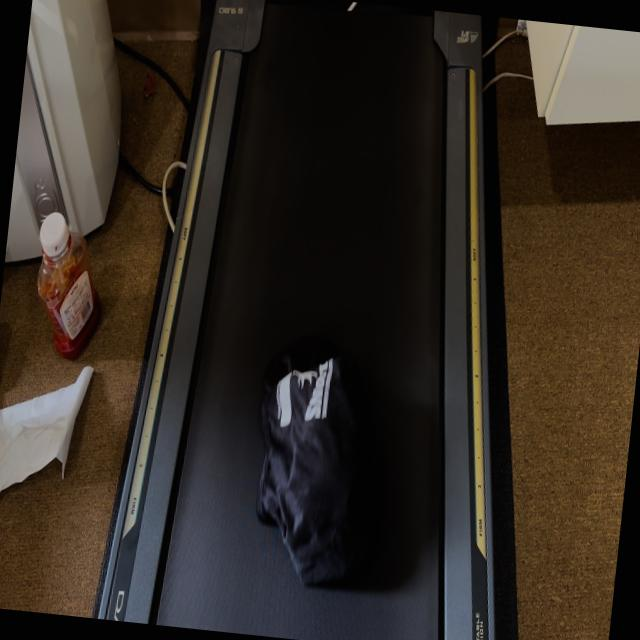Trash: (247, 349, 451, 606)
